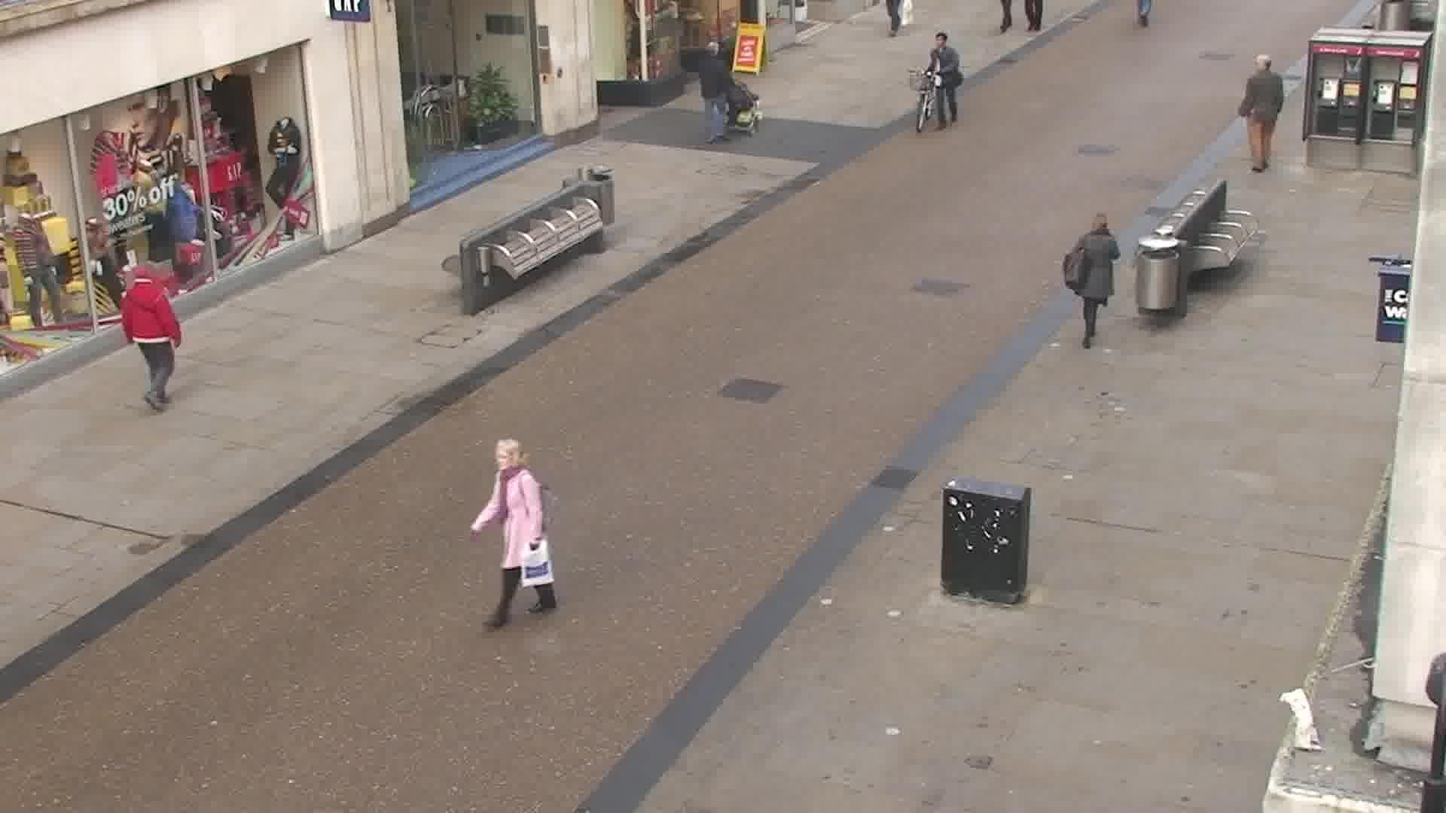car: (456, 184, 609, 313)
